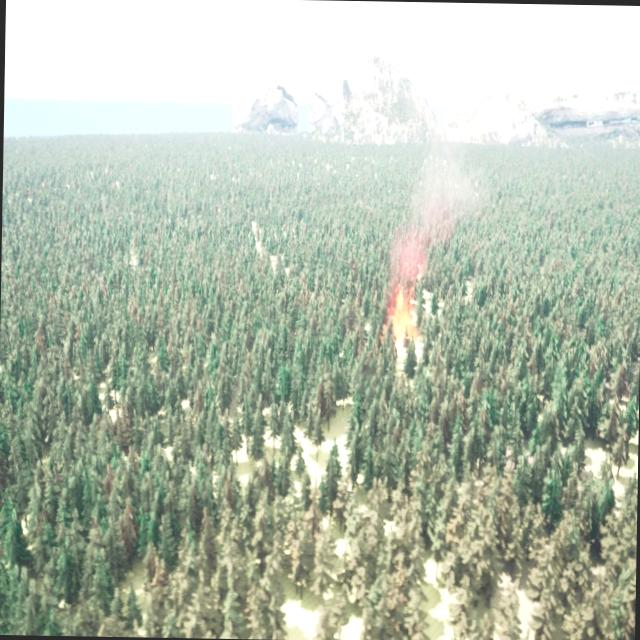fire: (387, 284, 422, 336)
smoke: (388, 138, 486, 286)
